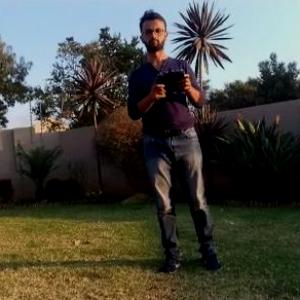follow: (122, 4, 226, 276)
